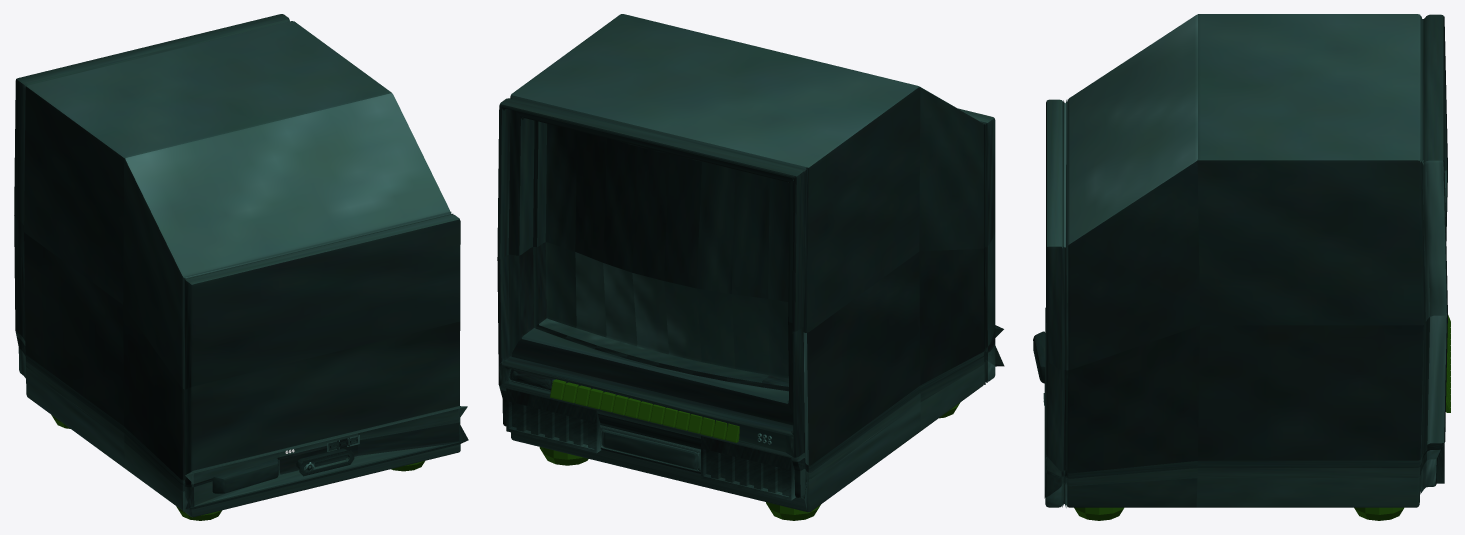
3 views of the same model, side by side, from view 1: azimuth 30°, elevation 25°; view 2: azimuth 150°, elevation 25°; view 3: azimuth 270°, elevation 25° (orthographic). The views are drawn at different scales.
Parts seen in each view (by area): view 1: Cube; view 2: Cube, Cube.002, Cube.003, Cube.001; view 3: Cube, Cylinder.004, Cylinder.002.
Part boxes in pixels (box(x1,y1,x2,y2)): Cube: box(14, 14, 468, 517); Cube: box(497, 14, 1004, 512); Cube.002: box(506, 388, 601, 453); Cube.003: box(701, 436, 795, 500); Cube.001: box(550, 379, 739, 442); Cube: box(1033, 14, 1447, 507); Cylinder.004: box(1074, 507, 1123, 520); Cylinder.002: box(1354, 507, 1403, 520).
Size of the model in its own units: 0.7368 by 0.8196 by 0.8389.
Materials: 4 (2 with a texture image).
